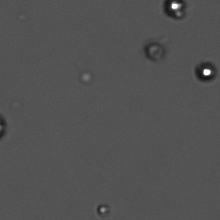Dead Cell: (144, 40, 167, 61)
Living Cell: (195, 61, 216, 82), (162, 1, 186, 18), (95, 202, 111, 216)
